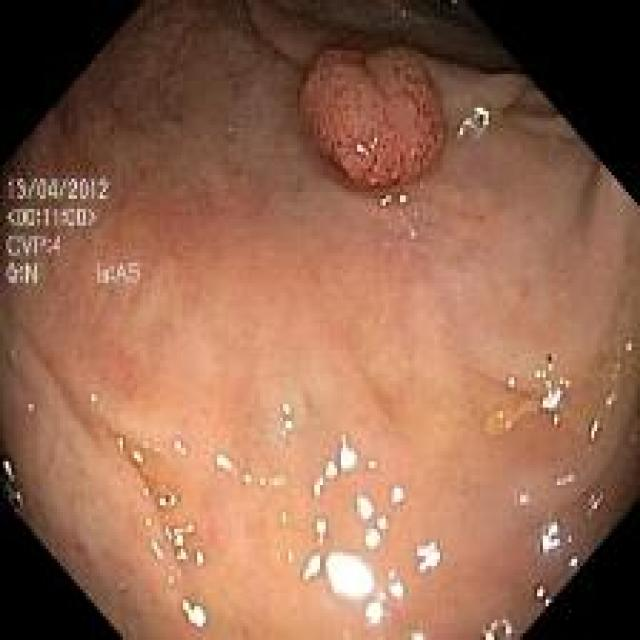Polyps: (299, 47, 444, 187)
